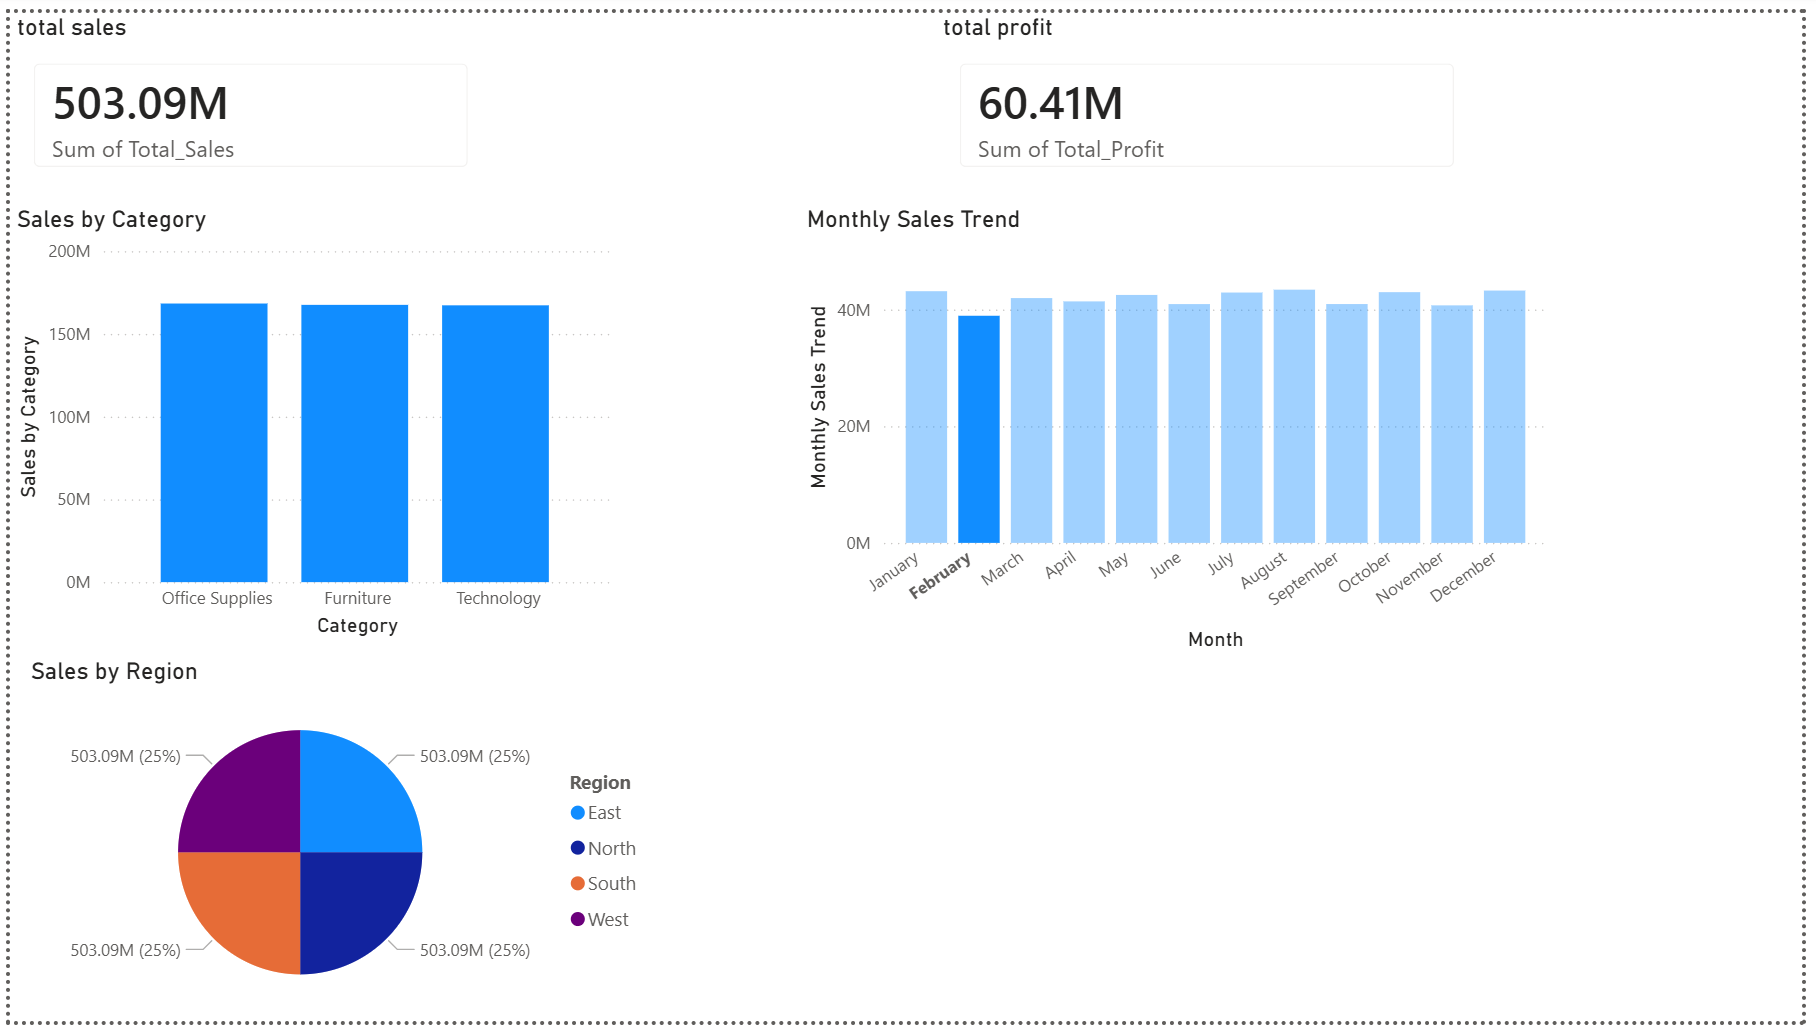

Layout of this report page (visuals, bound fields, positions):
{"tool":"powerbi","page":{"name":"Page 1","canvas":[1280,720],"ordinal":0},"visuals":[{"type":"clusteredColumnChart","title":"Monthly Sales Trend ","fields":{"Category":["monthly_summary.Month.Variation.Date Hierarchy.Month"],"Y":["Sum(monthly_summary.Total_Sales)"]},"box":[564.3,137.1,538.6,322.9],"z":0},{"type":"pieChart","title":"Sales by Region","fields":{"Y":["Sum(category_summary.Total_Sales)"],"Category":["region_summary.Region"]},"box":[10,460,458.6,260],"z":1000},{"type":"columnChart","title":"Sales by Category","fields":{"Category":["category_summary.Category"],"Y":["Sum(category_summary.Total_Sales)"]},"box":[0,137.1,434.3,312.9],"z":2000},{"type":"cardVisual","title":"total sales","fields":{"Data":["Sum(category_summary.Total_Sales)"]},"box":[0,0,344.3,127.1],"z":2001},{"type":"cardVisual","title":"total profit","fields":{"Data":["Sum(category_summary.Total_Profit)"]},"box":[661.4,0,387.1,127.1],"z":2002}]}

Visuals, with their boxes in screenshot pixels (x1, y1, x2, y2), scaled from the page's 1280x720 canvas onto the 1816x1026 screenshot:
"Monthly Sales Trend " clusteredColumnChart: BBox(801, 195, 1565, 656)
"Sales by Region" pieChart: BBox(14, 656, 665, 1025)
"Sales by Category" columnChart: BBox(0, 195, 616, 641)
"total sales" cardVisual: BBox(0, 0, 488, 181)
"total profit" cardVisual: BBox(938, 0, 1488, 181)
